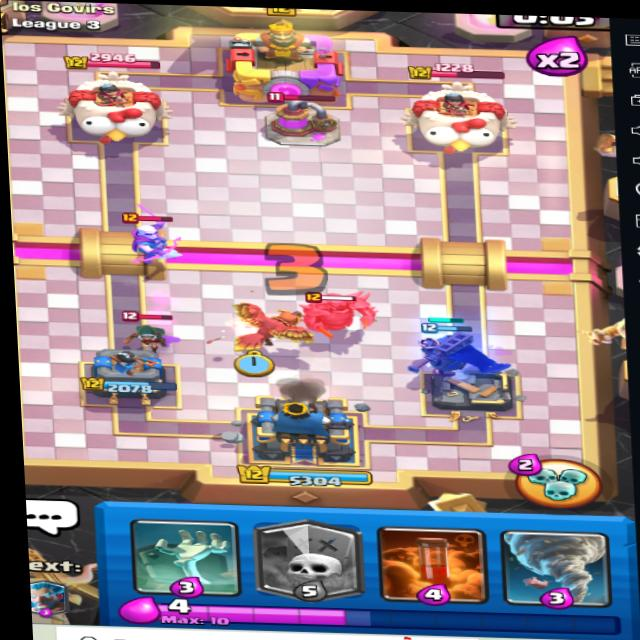bandit: (118, 303, 178, 353)
elixir-collector: (254, 87, 359, 160)
magic-archer: (120, 207, 183, 272)
pekka: (304, 290, 401, 339)
